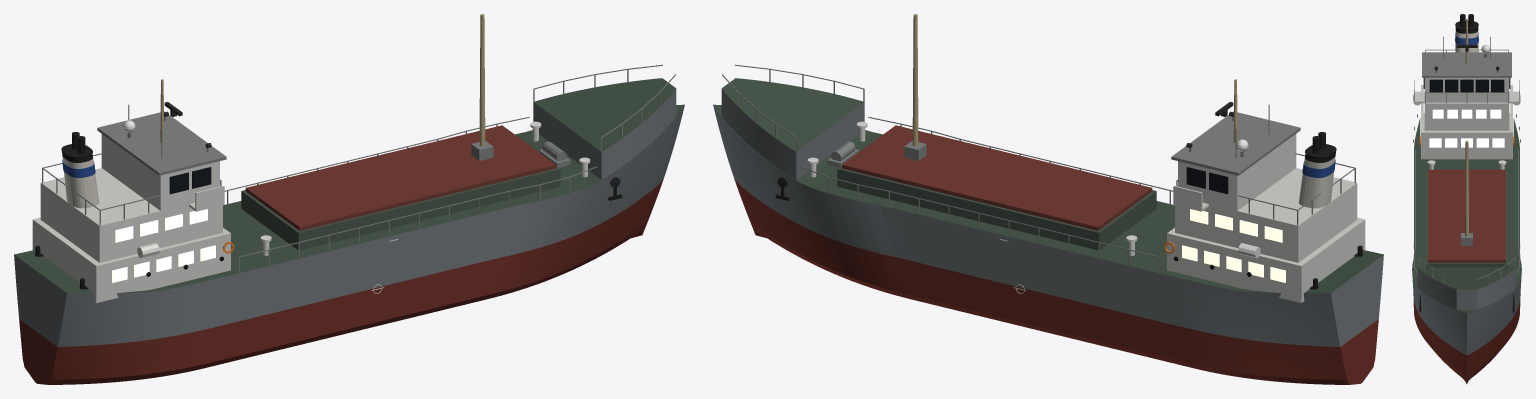
Rendered from coaster45.glb.
3 renders of one model, left to right at view 1: azimuth 30°, elevation 25°; view 2: azimuth 150°, elevation 25°; view 3: azimuth 270°, elevation 25°, orthographic. The views are drawn at different scales.
Parts seen in each view (by area): view 1: coaster45; view 2: coaster45; view 3: coaster45.
Part boxes in pixels (x1,y1,x2,y2): coaster45: [14, 14, 684, 384]; coaster45: [713, 14, 1383, 384]; coaster45: [1412, 14, 1521, 384].
Size of the model in its own units: 45.8 by 18.38 by 9.3.
